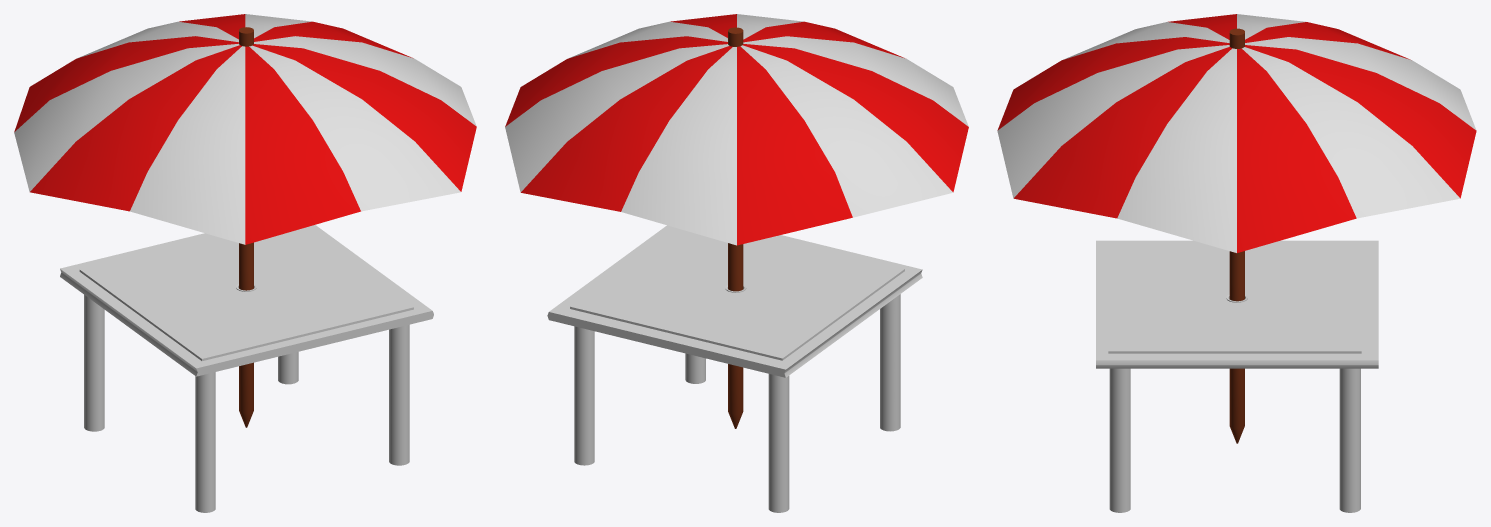
The model's file is mesaPlasticoParasol.FBX.
The picture shows the model from 3 angles, left to right: view 1: azimuth 30°, elevation 25°; view 2: azimuth 150°, elevation 25°; view 3: azimuth 270°, elevation 25°; orthographic projection. The views are drawn at different scales.
Visible parts, largest first — view 1: Cylinder001; view 2: Cylinder001; view 3: Cylinder001.
Boxes of the visible parts, bbox=[...] form: Cylinder001: bbox=[14, 14, 476, 512]; Cylinder001: bbox=[505, 14, 968, 512]; Cylinder001: bbox=[997, 14, 1476, 512].
Bounding box in the file's own units: 144 × 131 × 133.
